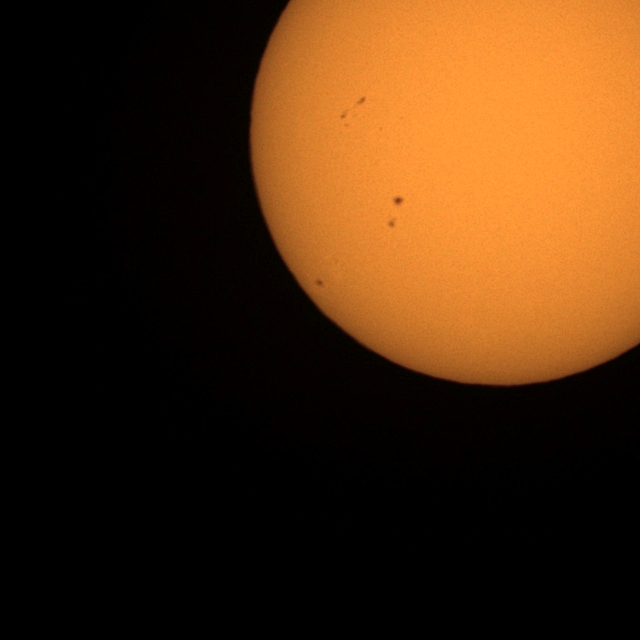sunspot: (341, 96, 366, 125), (392, 195, 405, 208), (386, 216, 397, 230), (356, 96, 367, 106), (314, 278, 324, 288)
